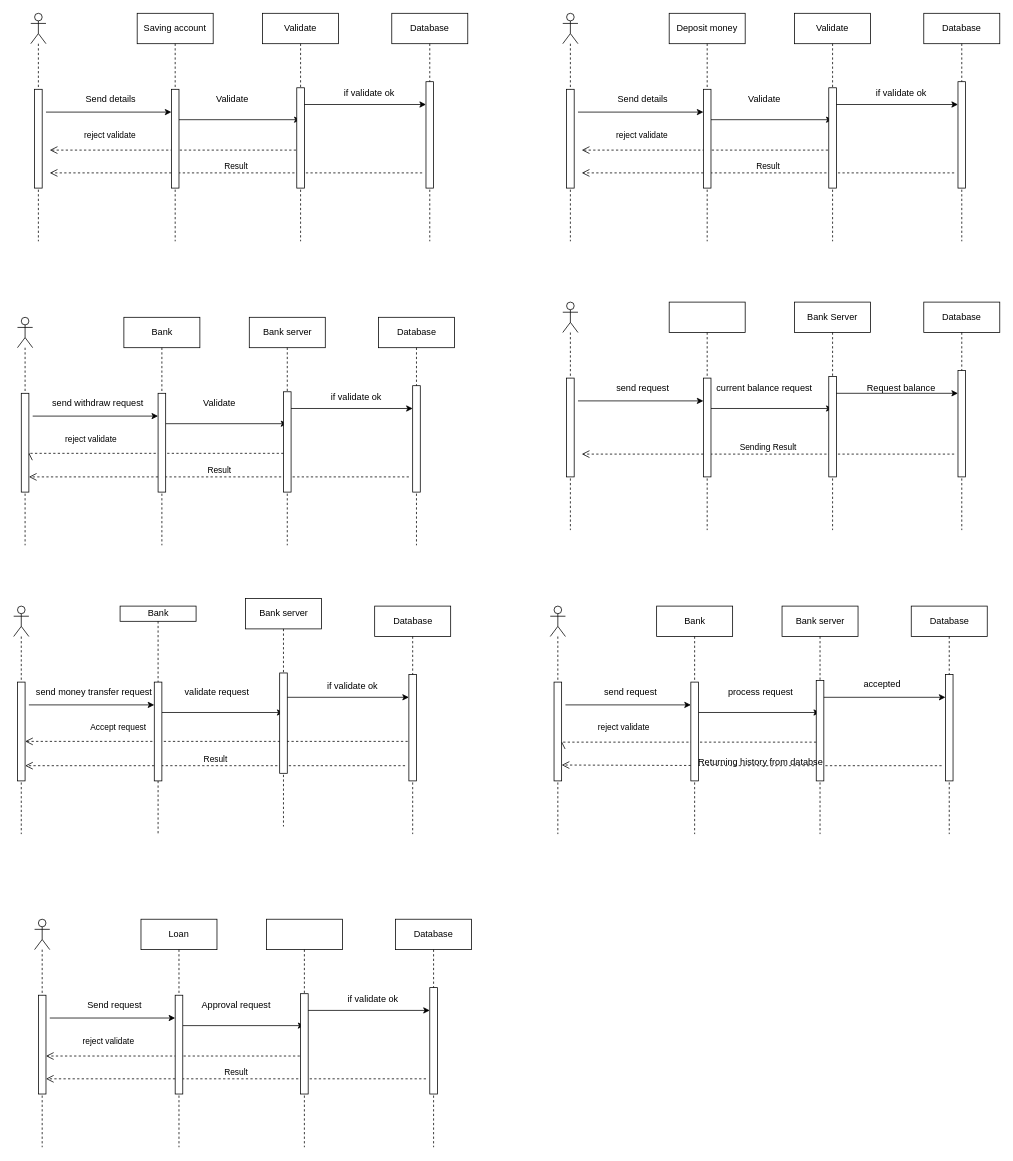
This 1013x1161 diagram has some shape labels left out. The centre of each missing label's shape, as x and y in pixels:
"Approval" belongs at point (304, 1032).
"Check balance" belongs at point (706, 415).
